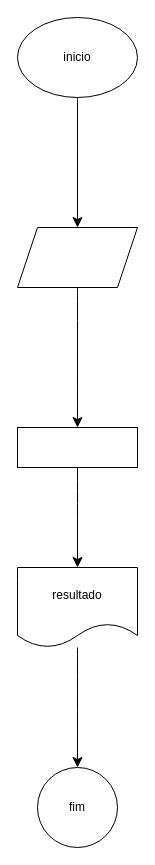
This 155x865 diagram has some shape labels left out. Each missing label, with the centre of its shape:
cotacao, valorreais: [77,257]
resultado = (valorreais/cotacao): [77,447]
